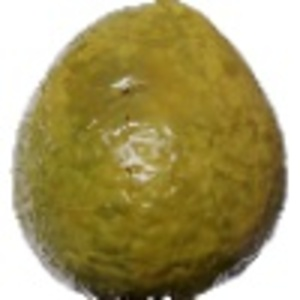goiaba: (10, 5, 289, 294)
